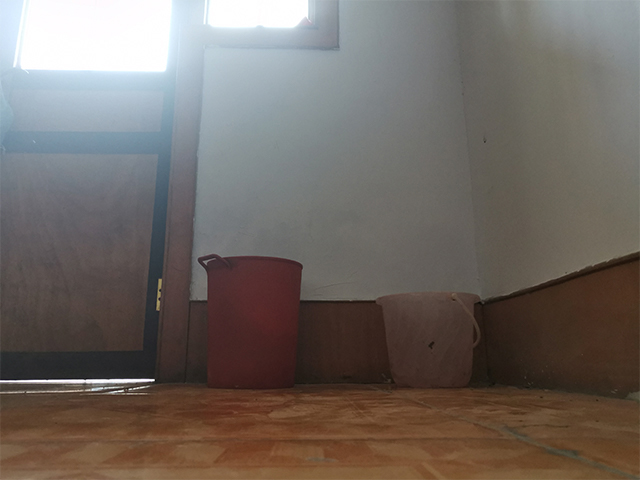trashcan: (196, 252, 305, 391), (373, 289, 484, 389)
